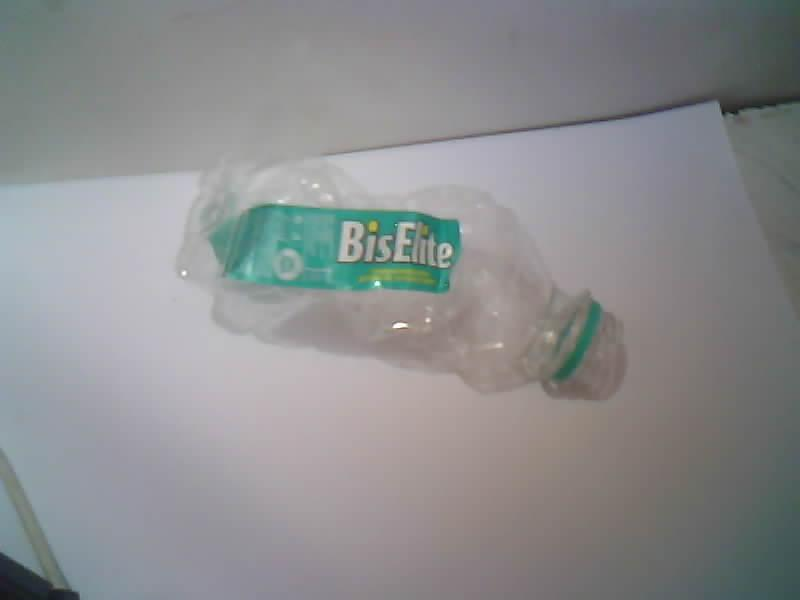non-biodegradable: (177, 159, 625, 399)
